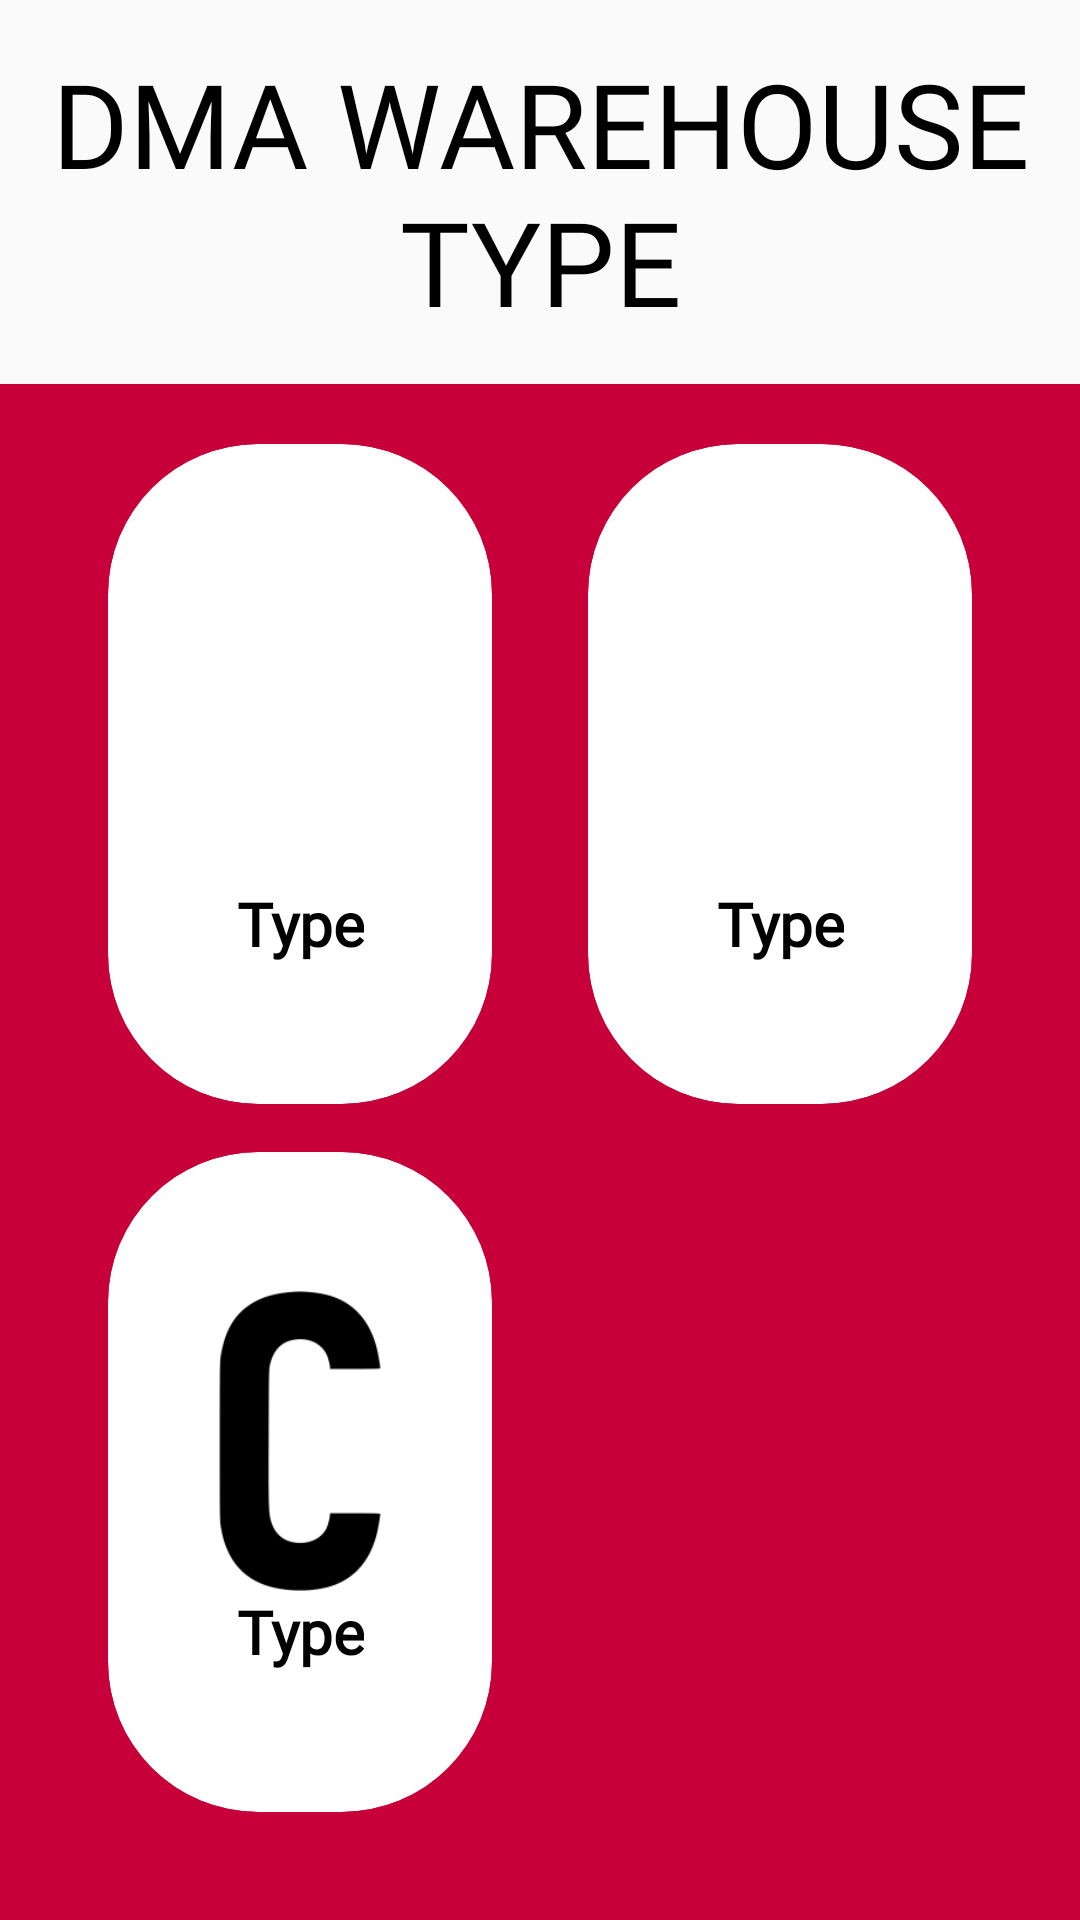

Icon click points for this 1080 × 1920 phone screenshot, format (x,y):
letterc: (300,1441)
